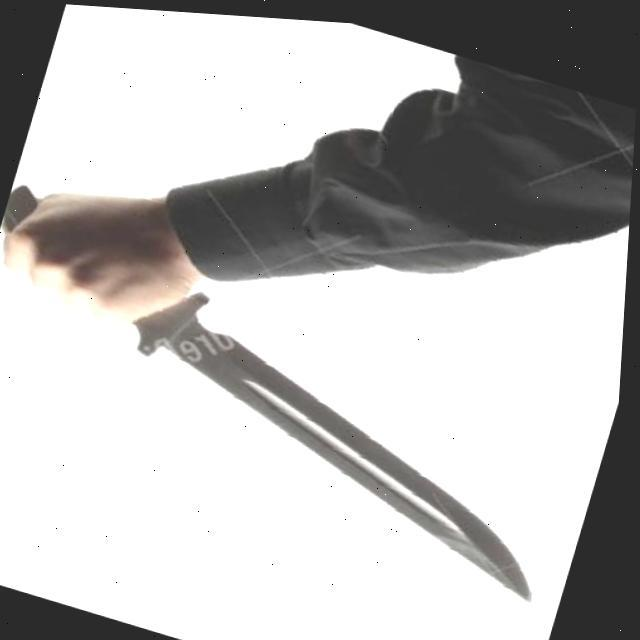knife: (0, 180, 617, 600)
